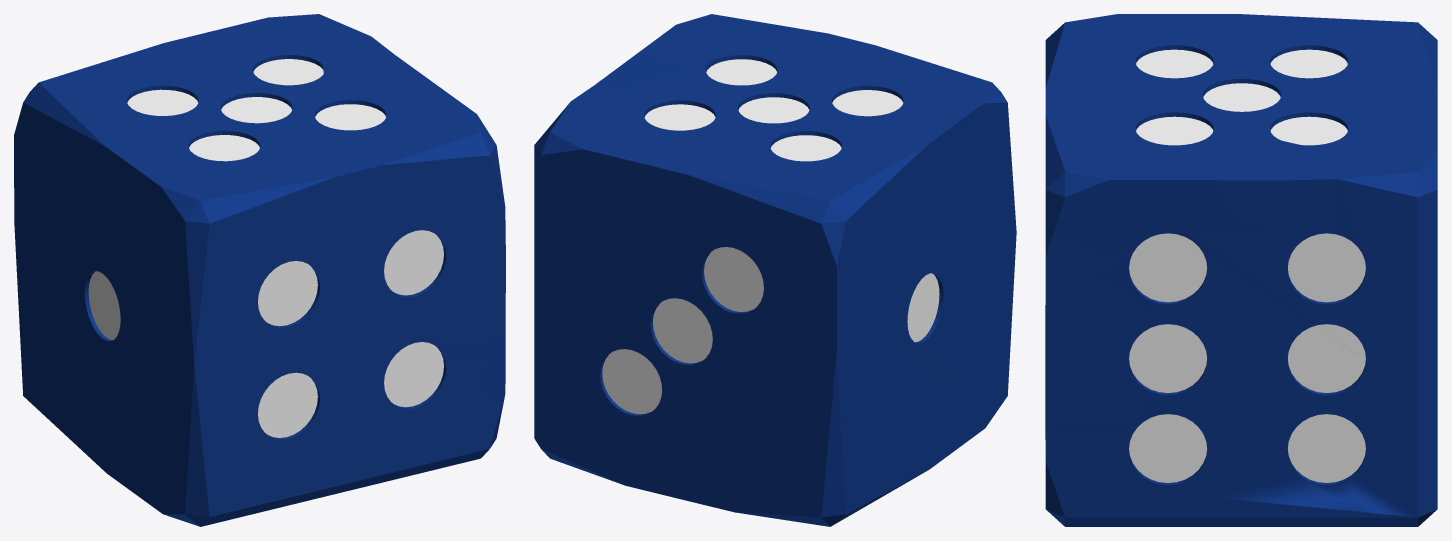
The model's file is 주사위_파.FBX.
3 renders of one model, left to right at view 1: azimuth 30°, elevation 25°; view 2: azimuth 150°, elevation 25°; view 3: azimuth 270°, elevation 25°, orthographic. The views are drawn at different scales.
Visible parts, largest first — view 1: 주사위-파; view 2: 주사위-파; view 3: 주사위-파.
Part boxes in pixels (x1,y1,x2,y2): 주사위-파: [14, 14, 505, 526]; 주사위-파: [534, 14, 1016, 526]; 주사위-파: [1045, 14, 1437, 526].
Bounding box in the file's own units: 545 × 545 × 545.
